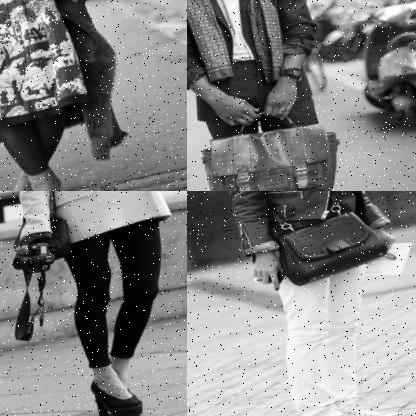jacket: (187, 0, 326, 101), (213, 191, 393, 257), (0, 191, 176, 251)
pants: (263, 225, 393, 416)
polar: (0, 0, 142, 191)
skirt: (0, 0, 95, 144)
